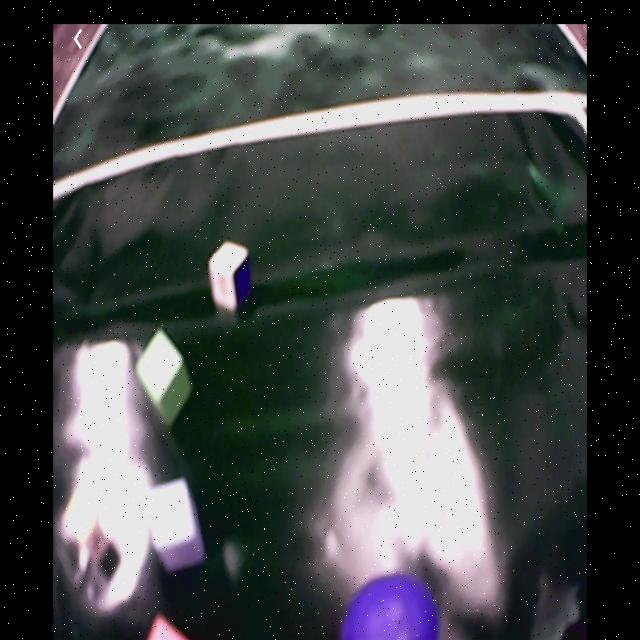ball: (343, 573, 435, 640)
